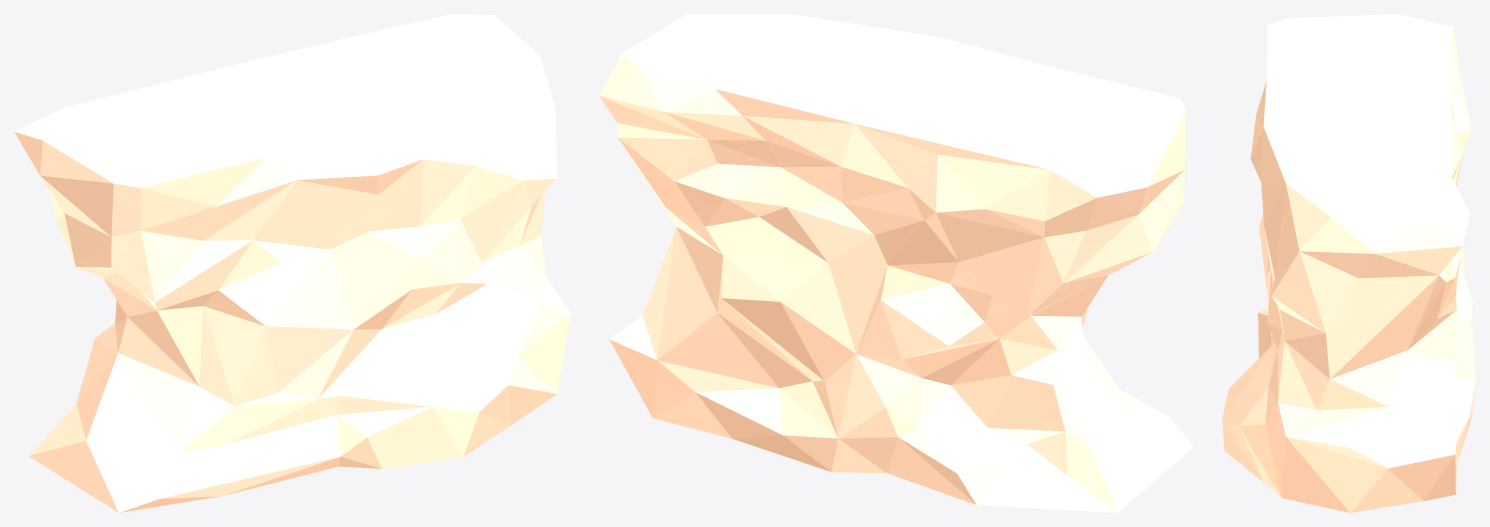
Rendered from FBX_Terrain_2.fbx.
3 views of the same model, side by side, from view 1: azimuth 30°, elevation 25°; view 2: azimuth 150°, elevation 25°; view 3: azimuth 270°, elevation 25° (orthographic). The views are drawn at different scales.
Parts seen in each view (by area): view 1: Terrain_2; view 2: Terrain_2; view 3: Terrain_2.
Part boxes in pixels (x1,y1,x2,y2): Terrain_2: [14, 14, 570, 512]; Terrain_2: [599, 14, 1193, 512]; Terrain_2: [1222, 14, 1475, 512].
Bounding box in the file's own units: 785 × 390 × 501.
